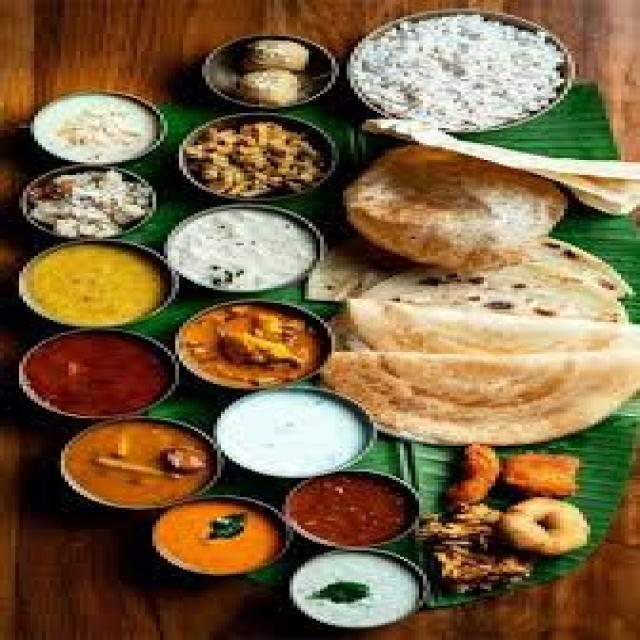curd: (198, 378, 394, 478)
dal: (23, 244, 174, 322)
dosa: (323, 308, 640, 438)
papad: (359, 123, 640, 241)
raita: (168, 206, 343, 298)
rice: (349, 14, 570, 124)
sambar-rasam: (138, 496, 298, 583)
vada: (490, 492, 600, 566)
veg: (169, 303, 345, 387)
